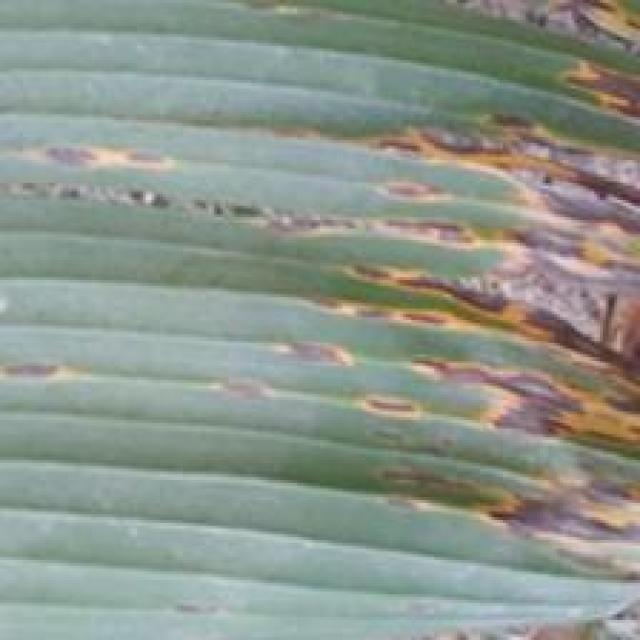Early_leaf_spot: (243, 0, 640, 640), (13, 122, 209, 184), (256, 313, 361, 380), (0, 337, 111, 394)
